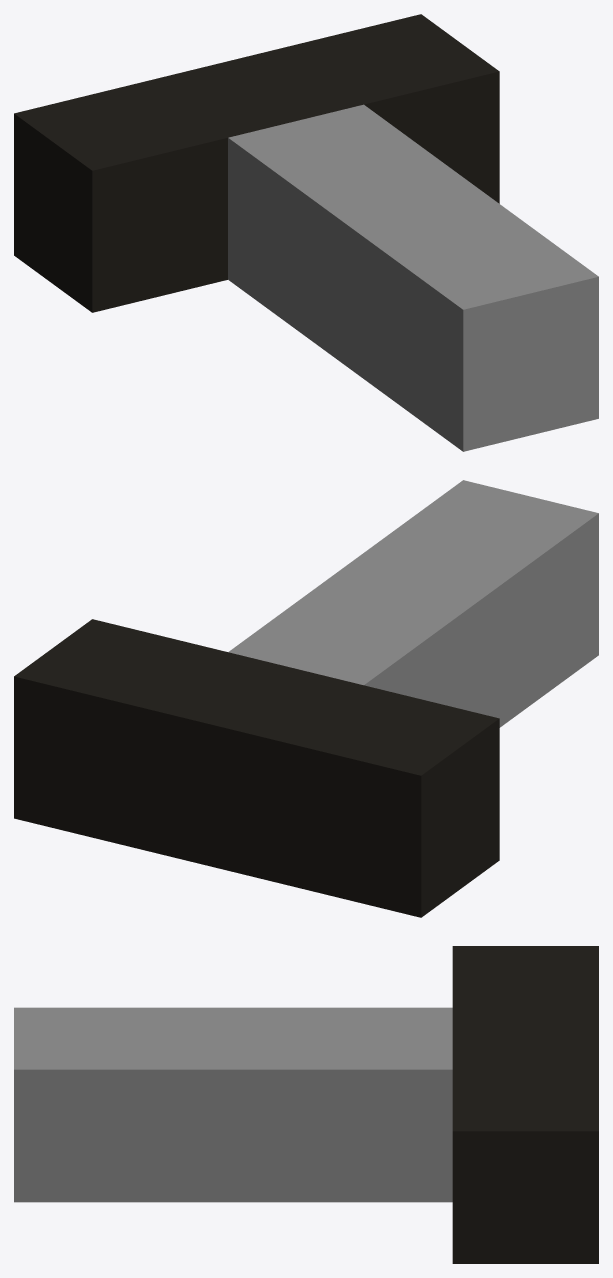
Rendered from Medieval Assets-216-Crafting - Table - Workbench.obj.
3 renders of one model, top to bottom at view 1: azimuth 30°, elevation 25°; view 2: azimuth 150°, elevation 25°; view 3: azimuth 270°, elevation 25°, orthographic. The views are drawn at different scales.
Visible parts, largest first — view 1: Crafting - Table - Workbench; view 2: Crafting - Table - Workbench; view 3: Crafting - Table - Workbench.
Part boxes in pixels (x1,y1,x2,y2): Crafting - Table - Workbench: (14,14,598,451); Crafting - Table - Workbench: (14,480,598,917); Crafting - Table - Workbench: (14,946,598,1263).
Size of the model in its own units: 0.3 by 0.1 by 0.4.
1 material, 1 textured.
